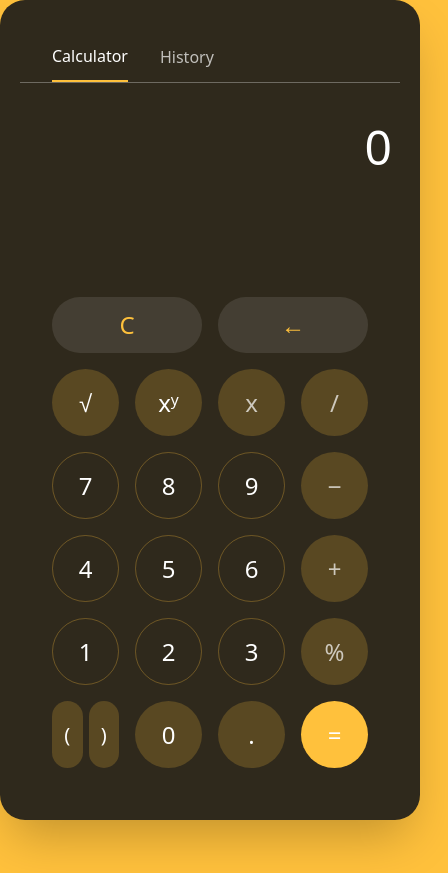
Test: Calculator › muestra la expresión mientras se escribe
Click the button "4": (86, 568) [52,535,119,602]
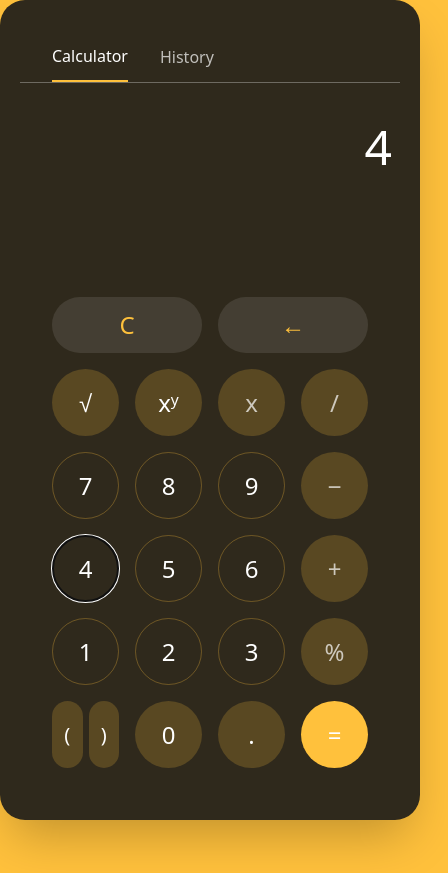
Click the button named "Sumar": (334, 568) [301,535,368,602]
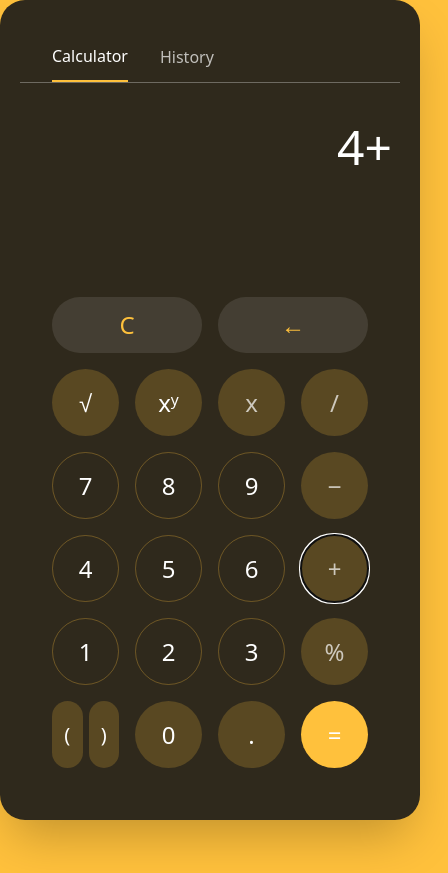
Click the button "5": (168, 568) [135,535,202,602]
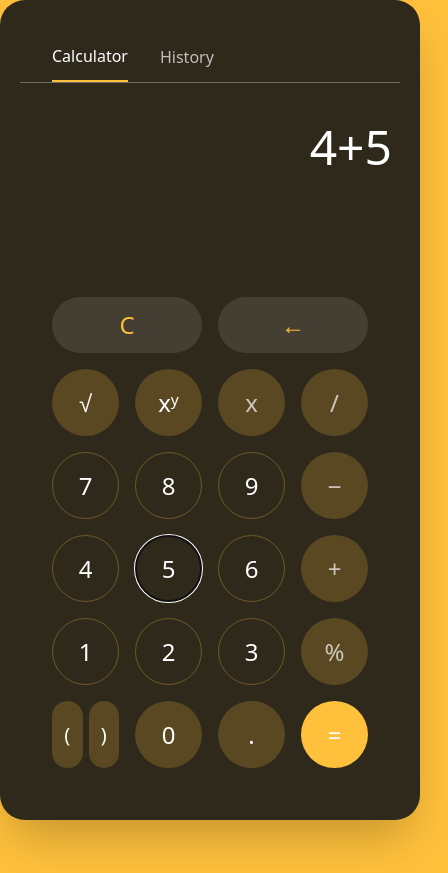
Click the button named "Multiplicar": (252, 402) [218,369,285,436]
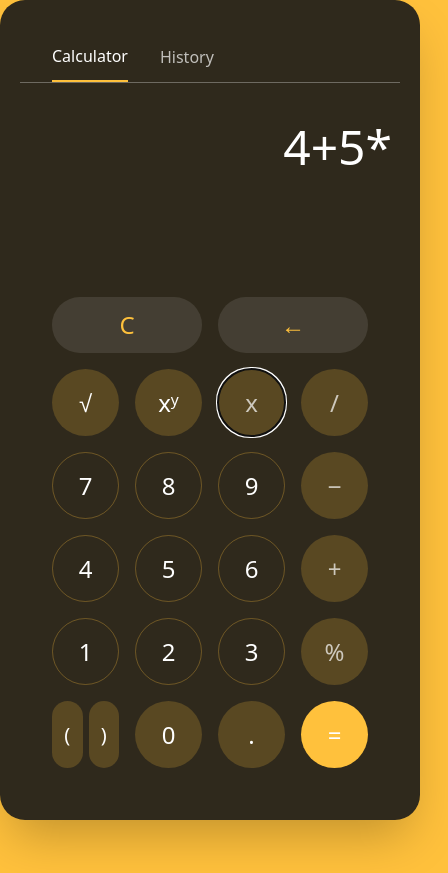
Click the button "1": (86, 652) [52,618,119,685]
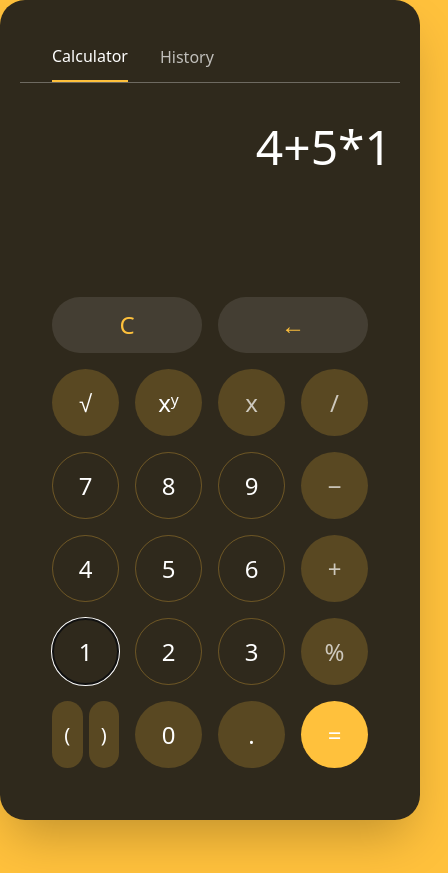
Click the button "0": (168, 734) [135,701,202,768]
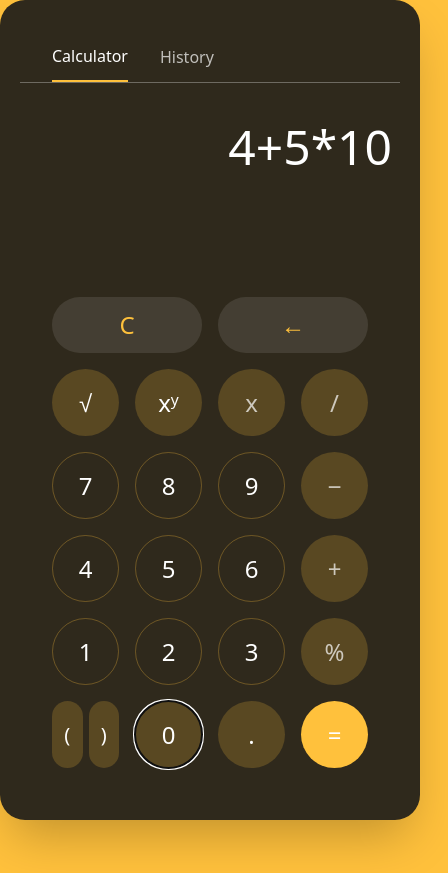
Result: the text named "Expresión" reads "4+5*10" at [228,114,392,179]
